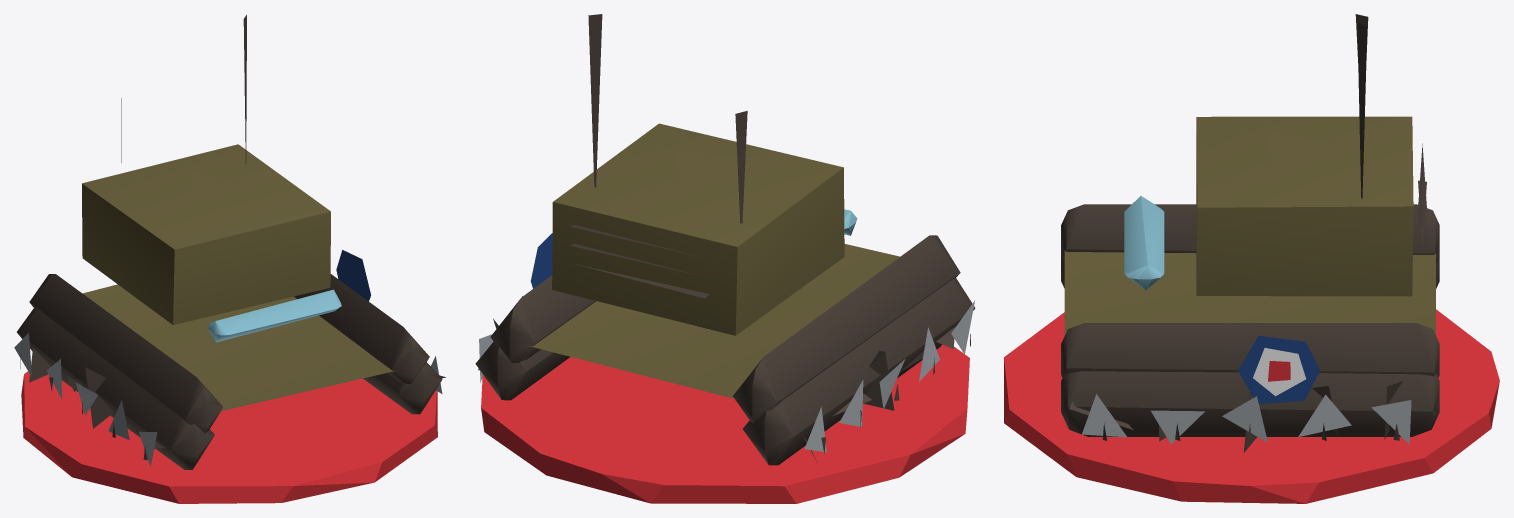
File: united_kingdom_headquarters_lod1.glb
3 views of the same model, side by side, from view 1: azimuth 30°, elevation 25°; view 2: azimuth 150°, elevation 25°; view 3: azimuth 270°, elevation 25° (orthographic). The views are drawn at different scales.
Visible parts, largest first — view 1: body_hull, base_pedestal; view 2: body_hull, base_pedestal; view 3: body_hull, base_pedestal.
Boxes of the visible parts, box(x1,y1,x2,y2) form: body_hull: box(14, 14, 445, 469); base_pedestal: box(21, 371, 437, 503); body_hull: box(475, 14, 975, 465); base_pedestal: box(481, 344, 969, 503); body_hull: box(1061, 14, 1439, 452); base_pedestal: box(1004, 309, 1499, 503).
Bounding box in the file's own units: 0.7751 × 0.7101 × 0.7751.
